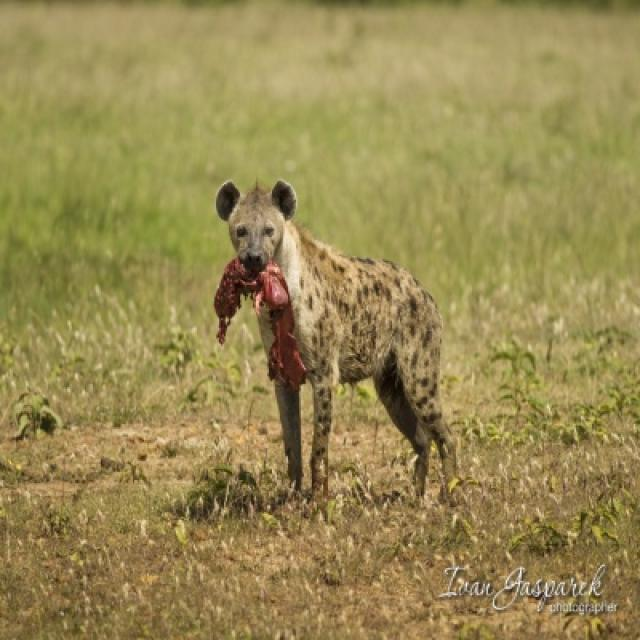hyena: (213, 181, 461, 504), (275, 381, 299, 493)
